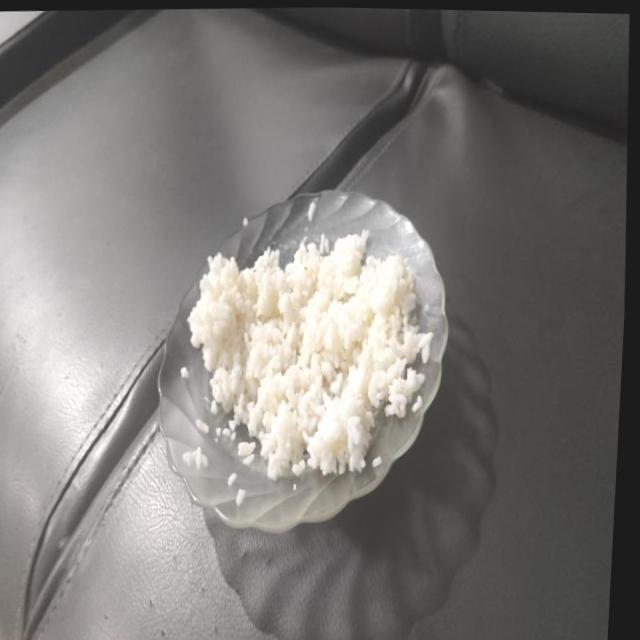nasi_putih: (188, 235, 433, 480)
